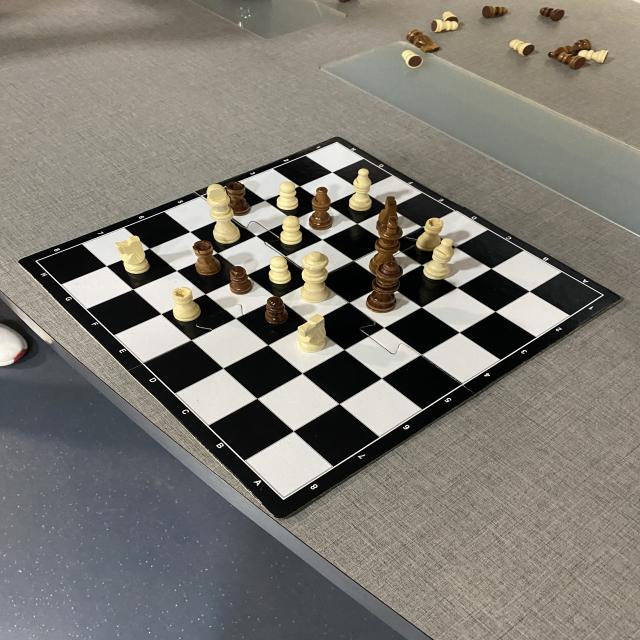Black-Bishop: (308, 187, 334, 231)
Black-King: (367, 215, 404, 276)
Black-Knight: (374, 196, 400, 230)
Black-Pawn: (228, 266, 254, 295), (264, 296, 289, 325)
Black-Queen: (365, 262, 405, 314)
Black-Rook: (192, 240, 222, 276), (225, 182, 251, 217)
White-Bishop: (423, 238, 454, 281), (348, 168, 372, 212)
White-King: (206, 183, 240, 245)
White-Knight: (114, 236, 150, 274), (297, 313, 327, 353)
White-Pawn: (267, 256, 292, 284), (276, 182, 300, 210), (280, 215, 302, 245)
White-Queen: (301, 250, 330, 304)
White-Rook: (171, 286, 201, 322), (415, 217, 445, 252)
